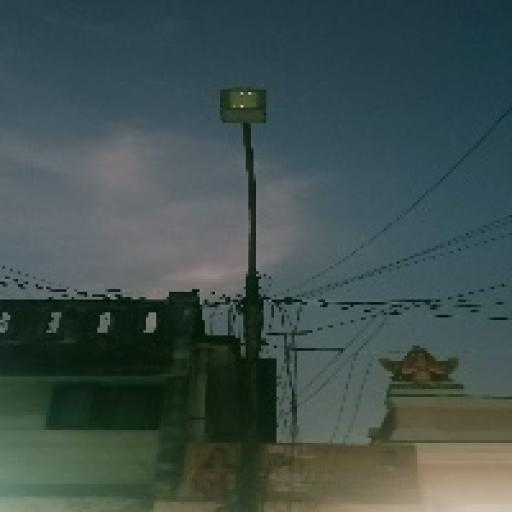Not Working: (210, 79, 276, 141)
